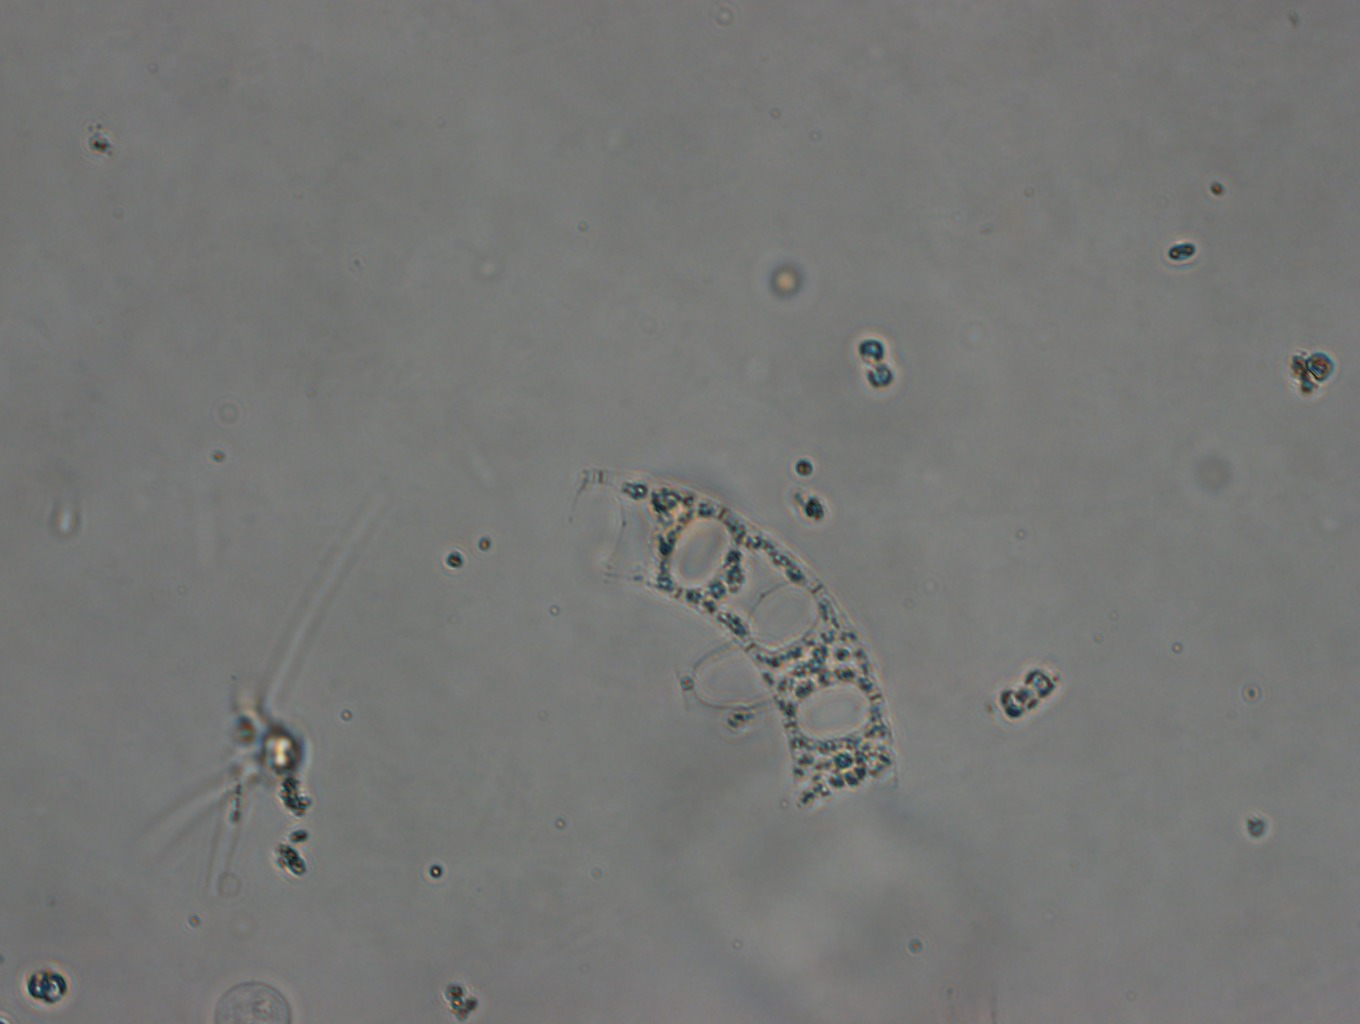eucampia: (561, 463, 901, 819)
